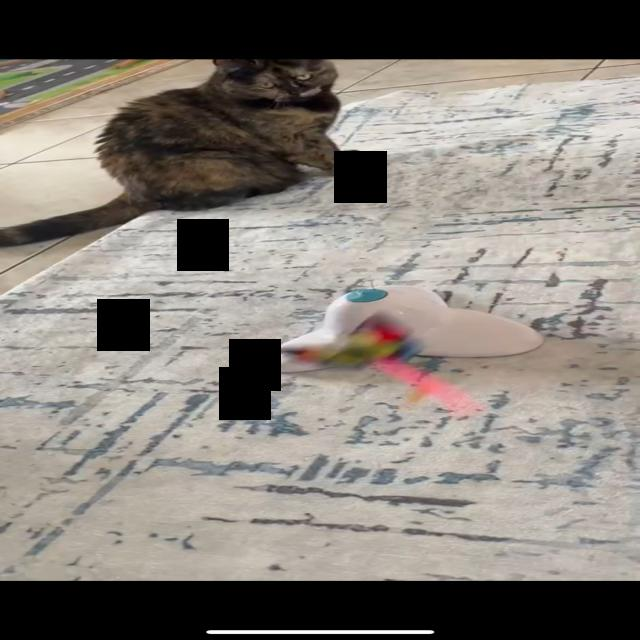authorized: (1, 58, 376, 247)
